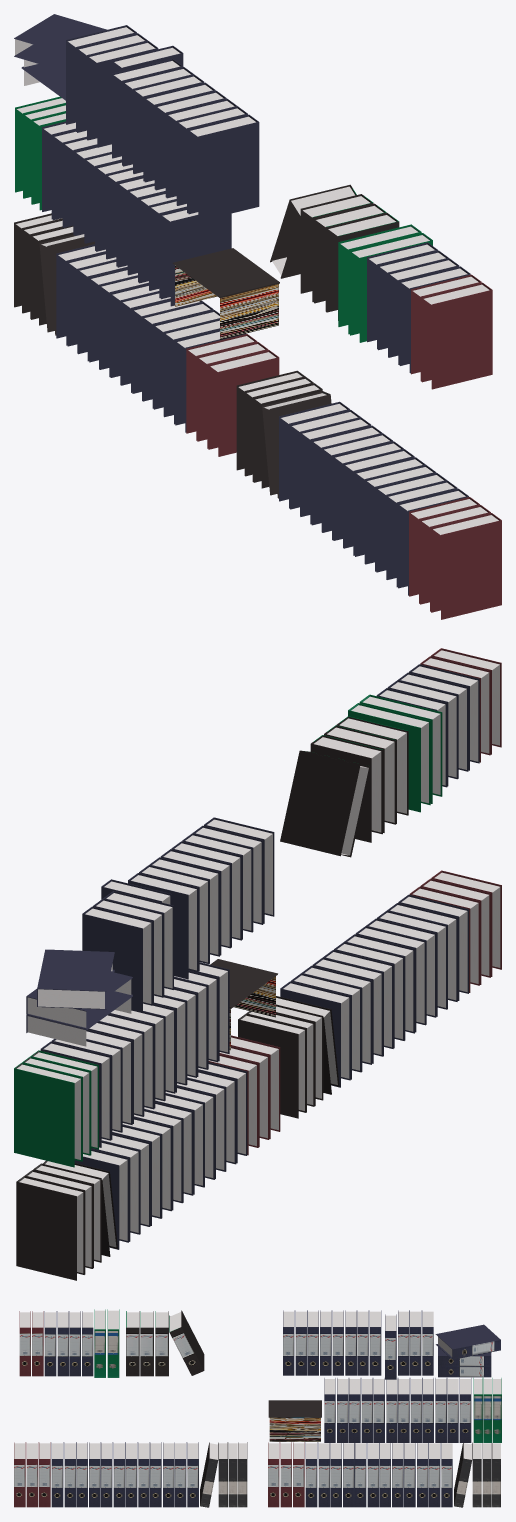
File: Files.fbx
3 views of the same model, one above another, from view 1: azimuth 30°, elevation 25°; view 2: azimuth 150°, elevation 25°; view 3: azimuth 270°, elevation 25° (orthographic). The views are drawn at different scales.
Parts seen in each view (by area): view 1: Files; view 2: Files; view 3: Files.
Boxes of the visible parts, bbox=[...] form: Files: bbox=[14, 14, 501, 619]; Files: bbox=[14, 648, 501, 1280]; Files: bbox=[14, 1309, 501, 1507].
Bounding box in the file's own units: 0.4791 × 1.61 × 3.97.
